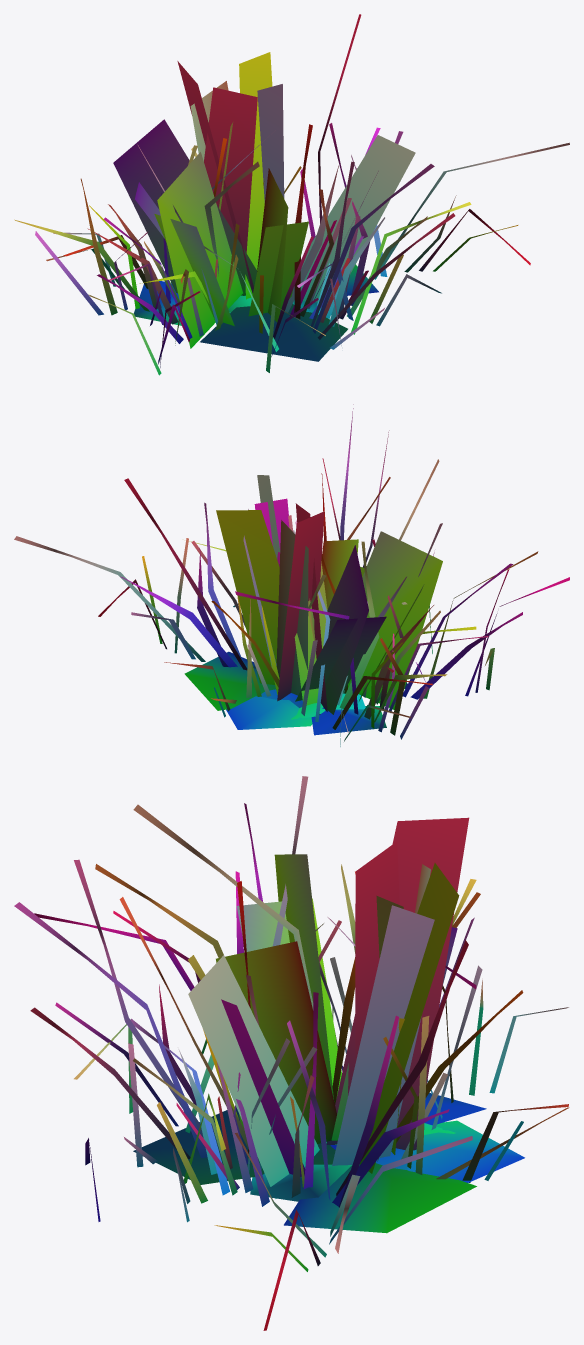
Rendered from uddmcgbia_VarD_LOD2.fbx.
3 renders of one model, top to bottom at view 1: azimuth 30°, elevation 25°; view 2: azimuth 150°, elevation 25°; view 3: azimuth 270°, elevation 25°, orthographic. The views are drawn at different scales.
Parts seen in each view (by area): view 1: _e04a_VarD_LOD3; view 2: _e04a_VarD_LOD3; view 3: _e04a_VarD_LOD3.
Part boxes in pixels (left/top/right/bottom): _e04a_VarD_LOD3: left=14, top=14, right=569, bottom=375; _e04a_VarD_LOD3: left=14, top=404, right=569, bottom=746; _e04a_VarD_LOD3: left=14, top=776, right=569, bottom=1330.
Size of the model in its own units: 16.33 by 7.25 by 10.8.
